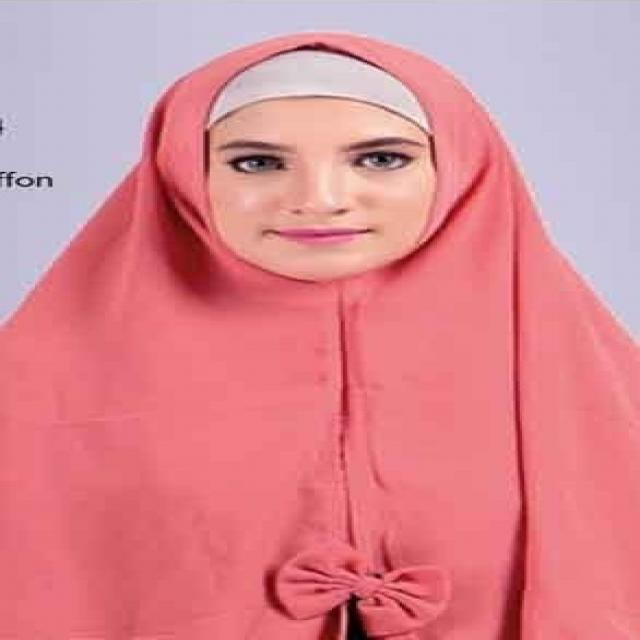head: (157, 31, 484, 284)
